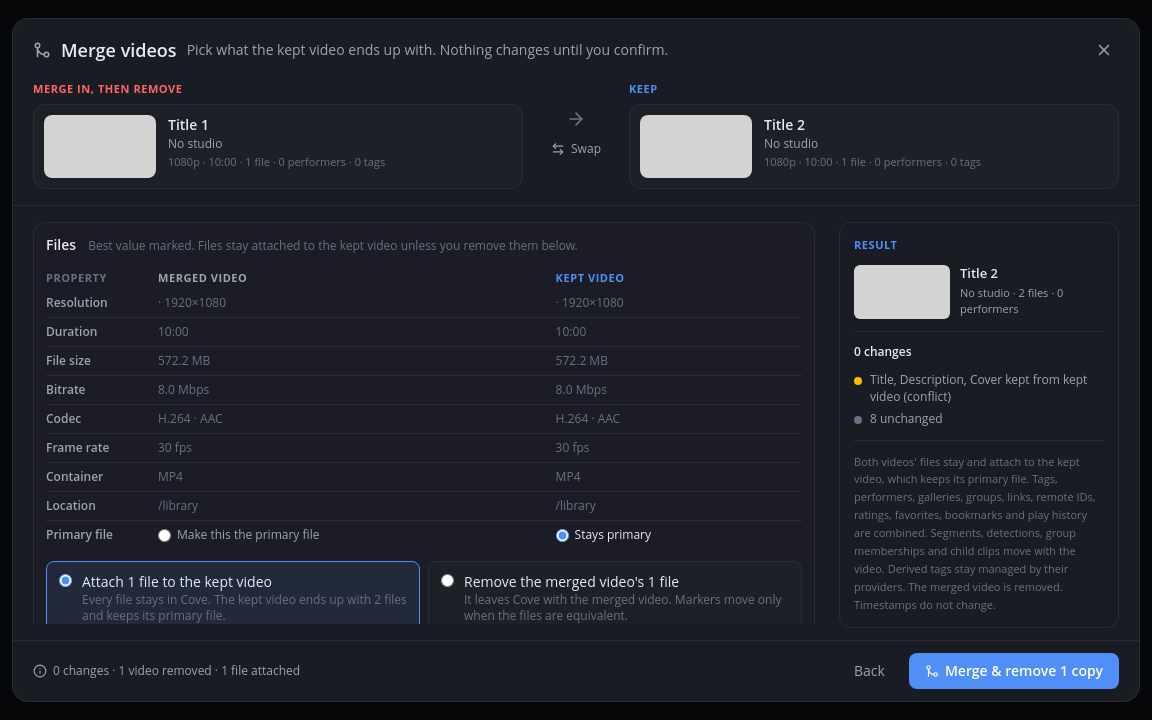
VideoMergeEditor primary file › falls back to the dialog when the direct switch is refused, without merging again
The width and height of the screenshot is (1152, 720).
Click the radio button with aria-label "Make video-1.mp4 the primary file": (164, 535) left=158, top=529, right=171, bottom=542
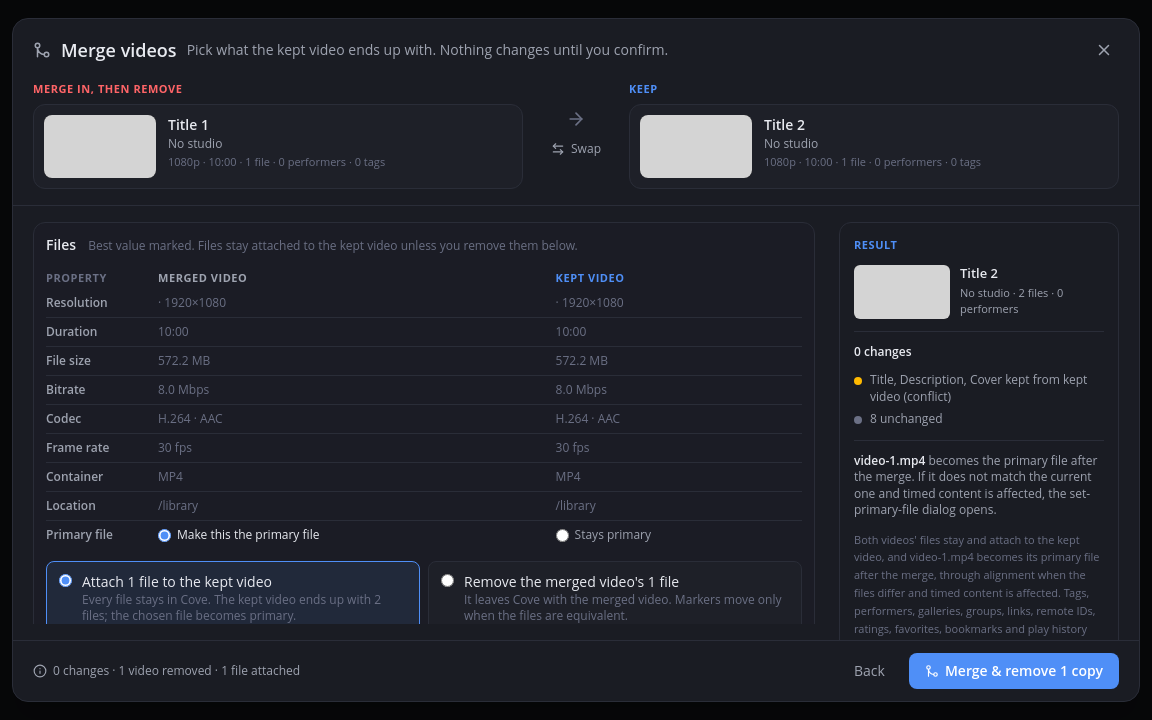
Click the button "Merge & remove 1 copy": (1014, 671) left=909, top=653, right=1119, bottom=689
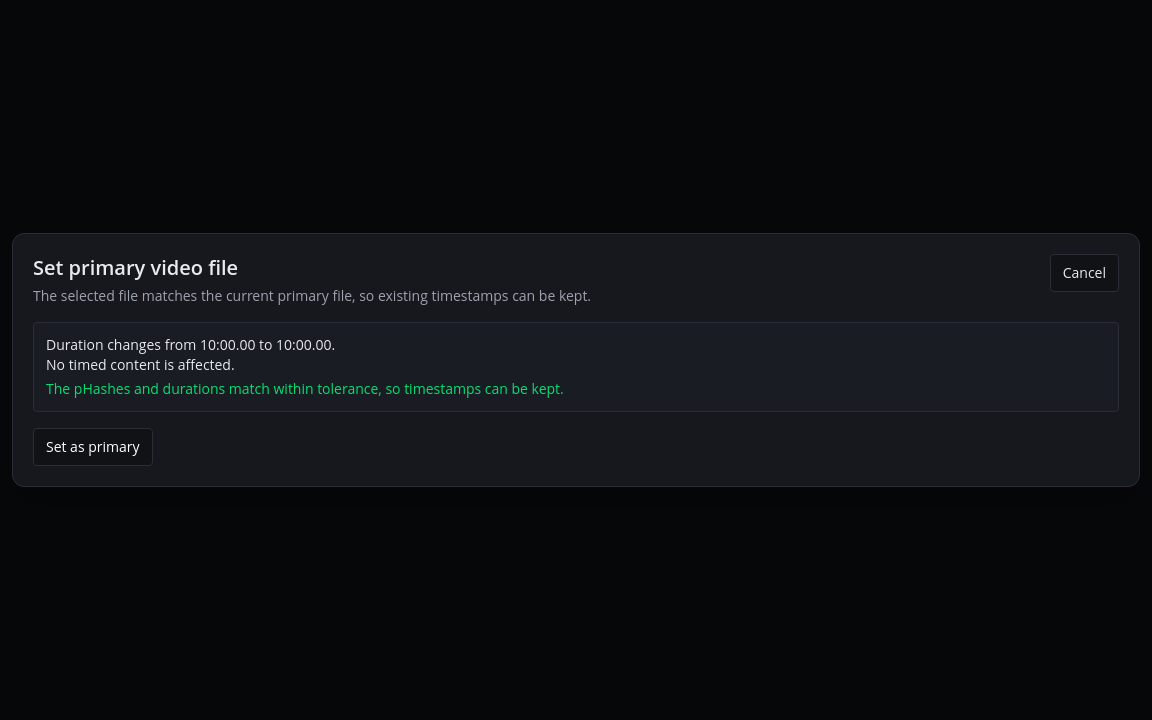
Check: the heading "Set primary video file" is shown, box left=33, top=254, right=238, bottom=281
Check: the button "Merge & remove 1 copy" is gone
